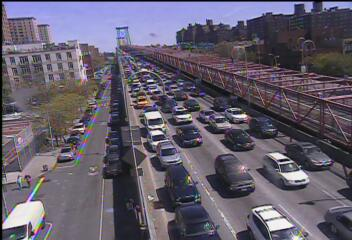neg: (9, 94, 23, 113), (48, 132, 60, 148), (61, 127, 68, 136)
pos: (12, 173, 25, 190), (23, 173, 32, 185)
